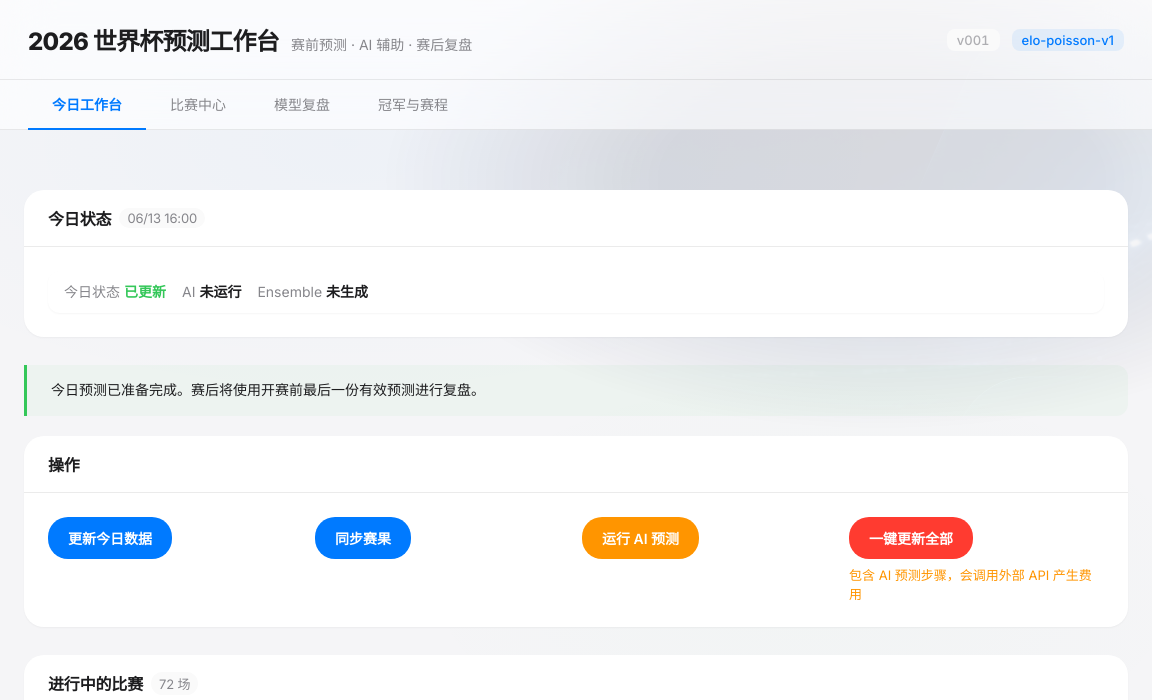
Test: shows group dashboard inside match center groups tab
Step 1. Click the tab "比赛中心" → point(198, 105), box [146,80,250,130]
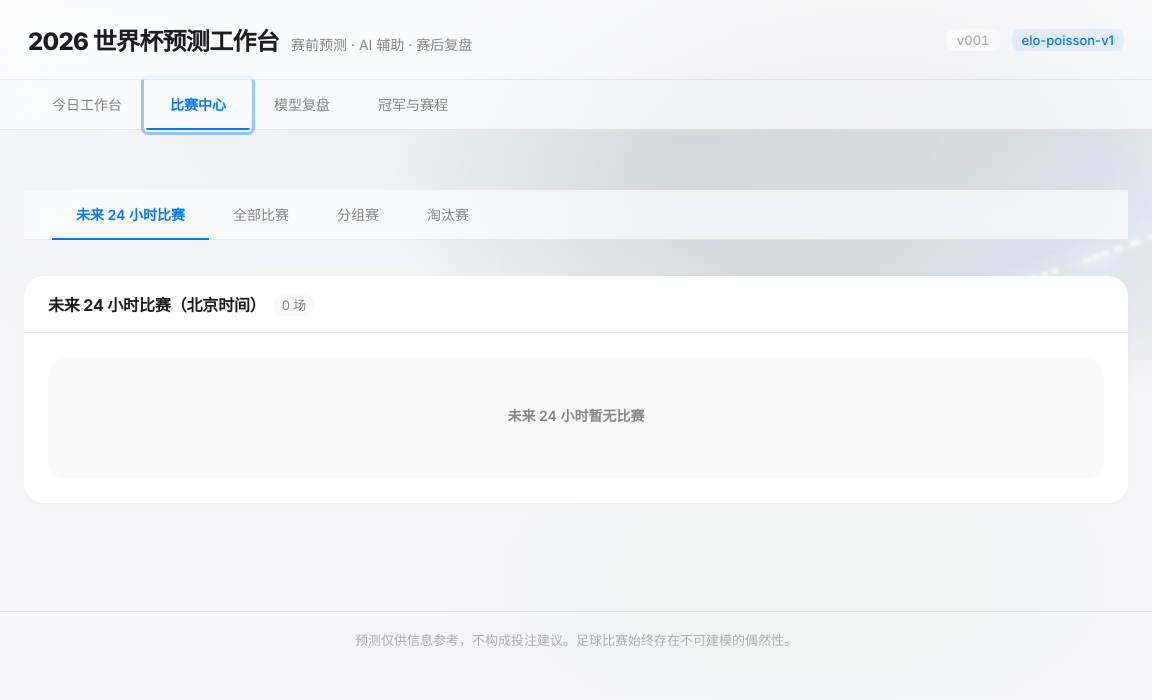
Result: the button "分组赛" is shown
Step 2. Click the button "分组赛" → point(358, 215), box [313,190,403,240]
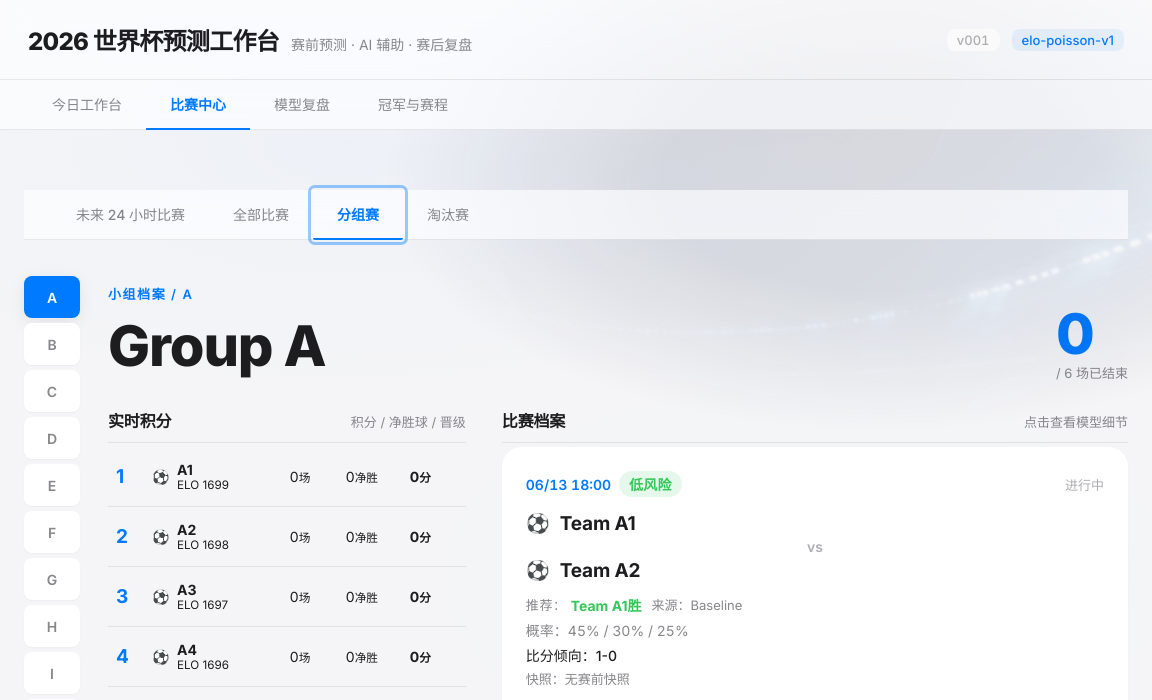
Result: the heading "Group A" is shown at [108,312,326,380]
